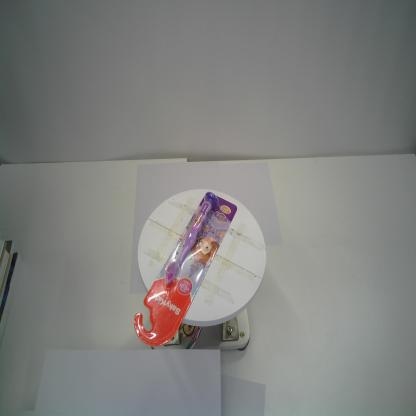Personal Hygiene: (132, 190, 238, 348)
